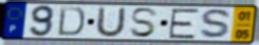9: (28, 4, 56, 39)
D: (55, 6, 86, 38)
E: (166, 8, 201, 40)
S: (198, 7, 234, 40), (128, 7, 160, 39)
U: (94, 5, 128, 39)
